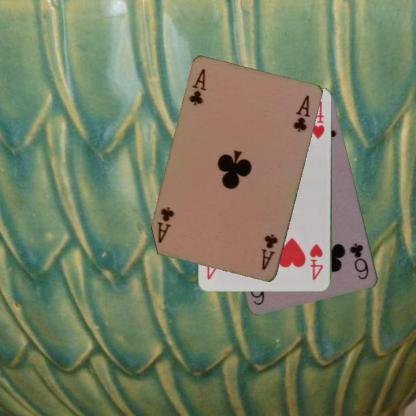4h: (307, 241, 325, 282)
6c: (348, 240, 370, 282)
Ac: (185, 66, 208, 107), (258, 231, 279, 272)
